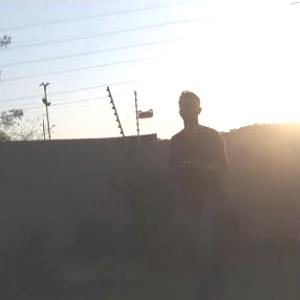follow: (166, 77, 237, 299)
